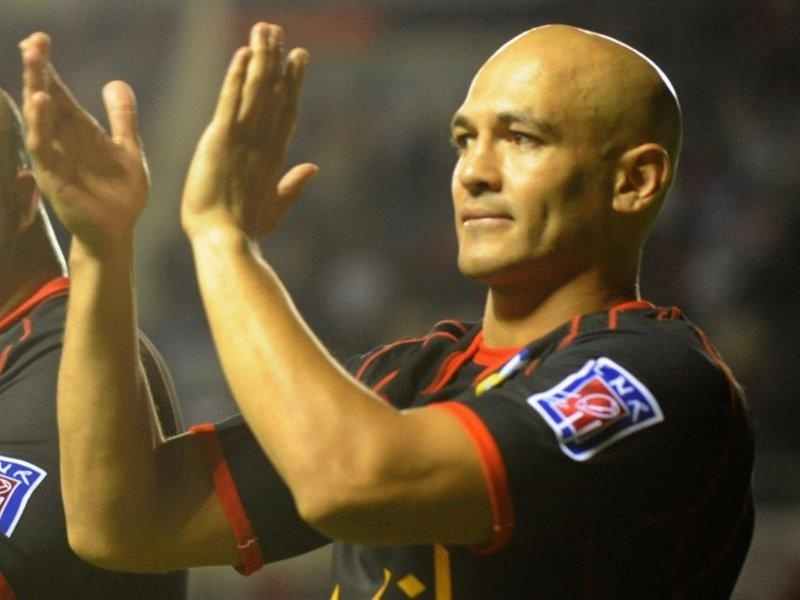person without safety: (342, 1, 764, 600)
